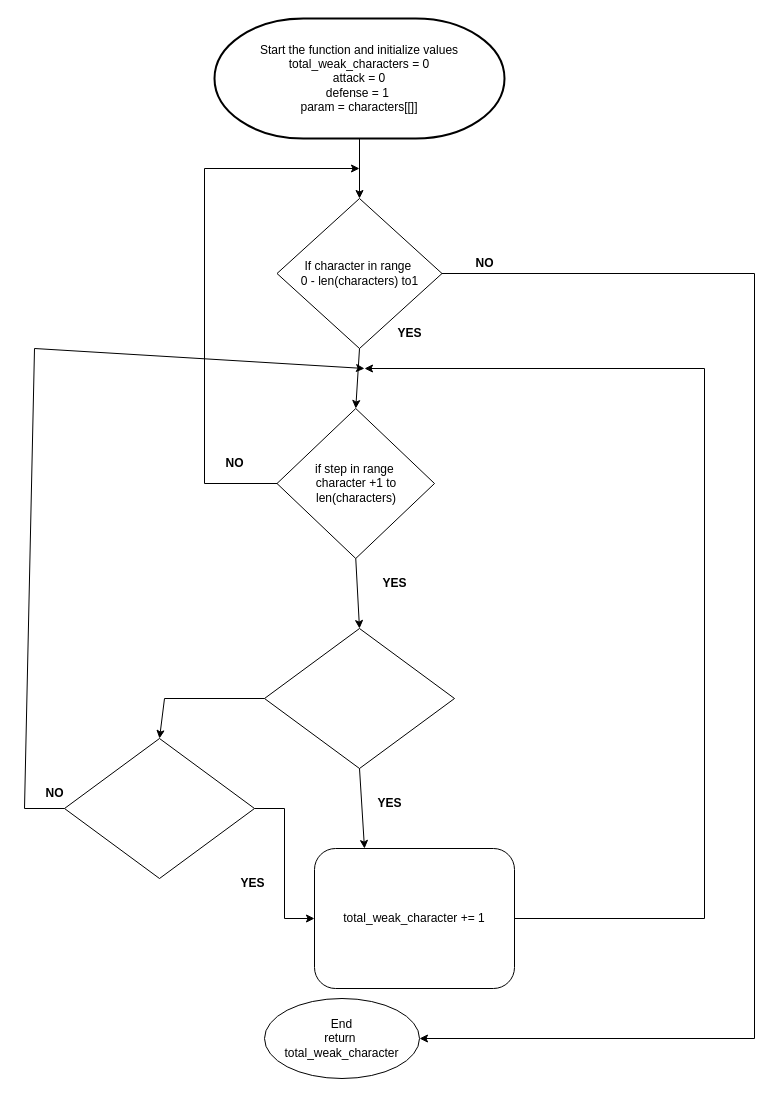
This 780x1096 diagram has some shape labels left out. Each missing label, with the centre of its shape:
if attack and defense of the character < step: (x=359, y=698)
if attack and defense of the character > step: (x=159, y=808)
